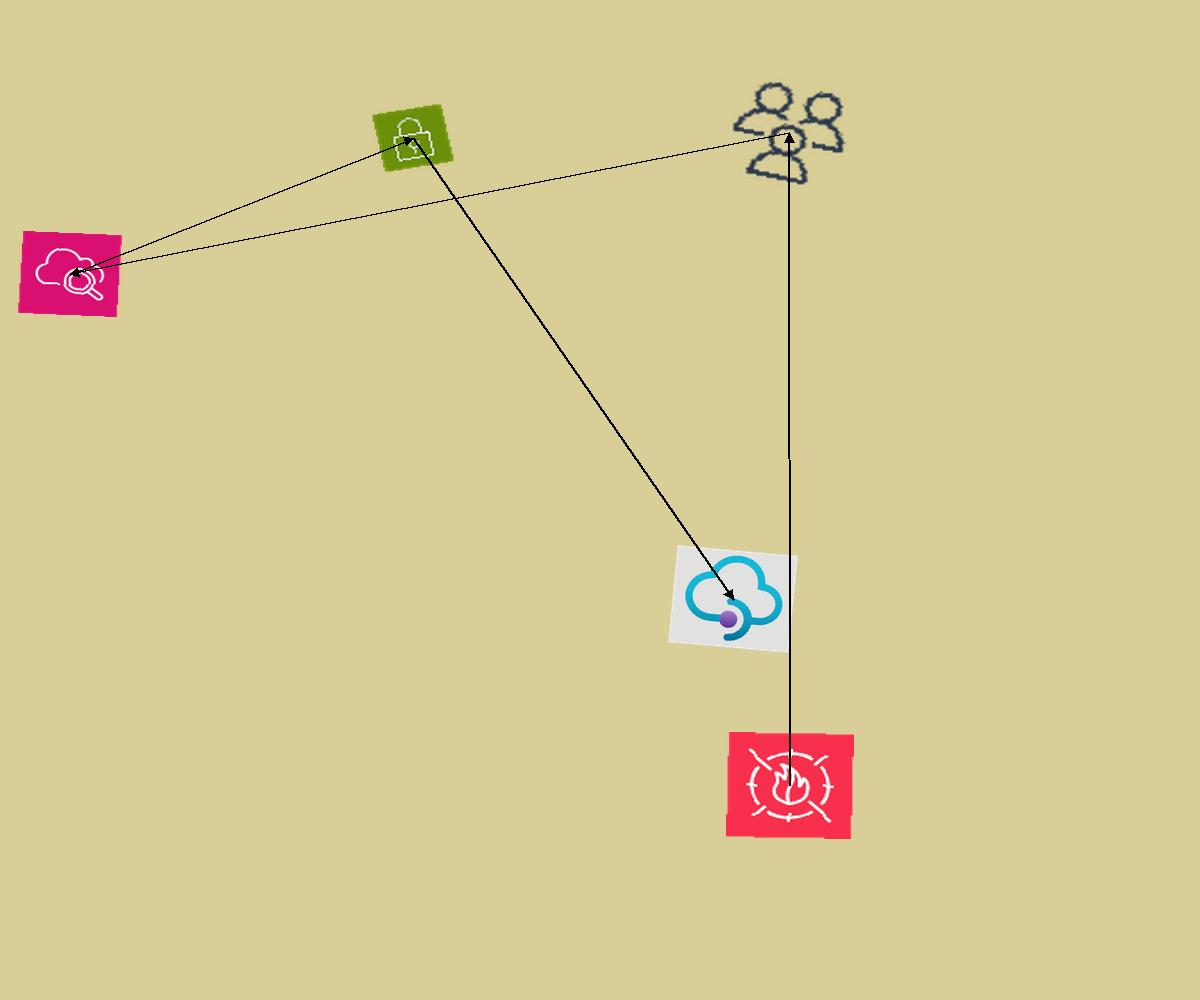AWS-CloudWatch: (17, 230, 123, 318)
AWS-Public-subnet: (371, 103, 455, 173)
AWS-Res_Users: (713, 70, 866, 197)
AWS-WAF: (726, 732, 854, 839)
Azure_api_gateway: (668, 545, 798, 653)
